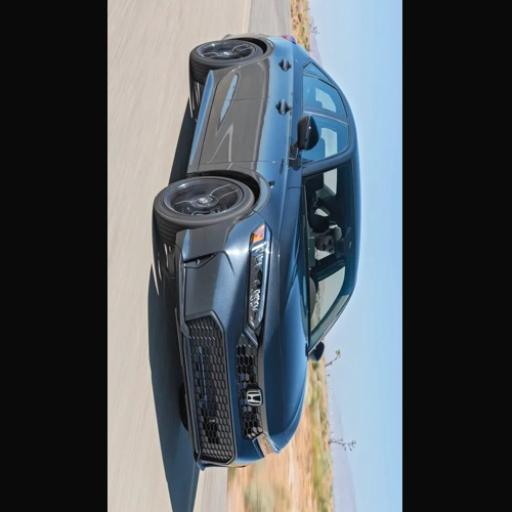sedan: (154, 35, 359, 468)
